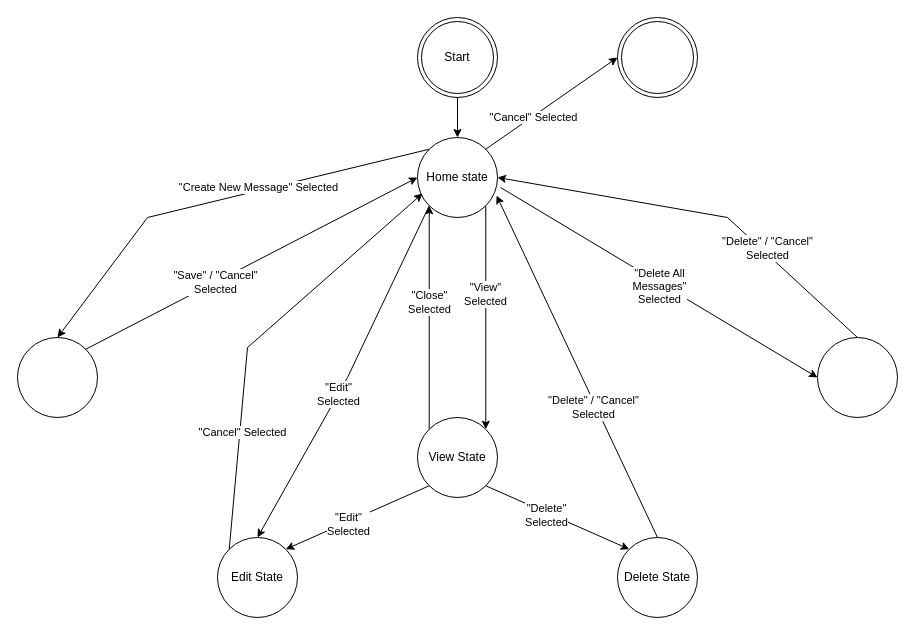
This 915x635 diagram has some shape labels left out. The centre of each missing label's shape, as x and y in pixels:
"Create State" goes at point 57,377.
"Delete All State" goes at point 857,377.
"Finish" goes at point 657,57.
